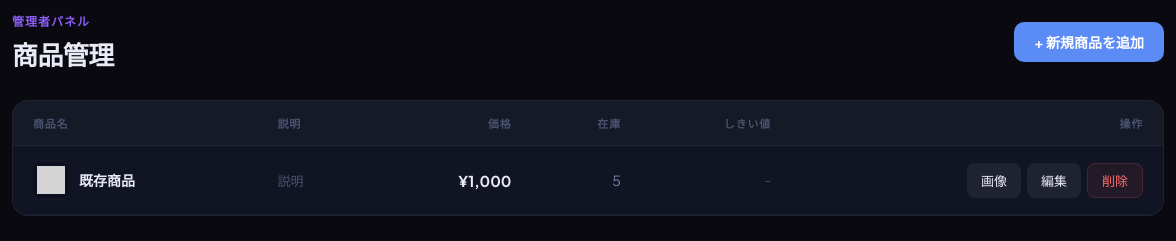
Test: AdminProductsView › updates a product via updateProduct
Expected: the text "既存商品" is shown, [79,170,135,190]
Step 1. Click the button "編集" → (1054, 180), box [1027,162,1081,198]
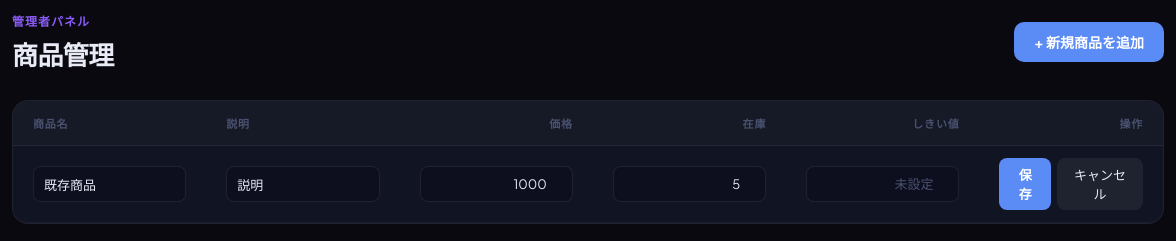
Step 2. Replace the text in the 1st field showing "既存商品" with "更新商品" → (110, 184), box [33,166,186,202]
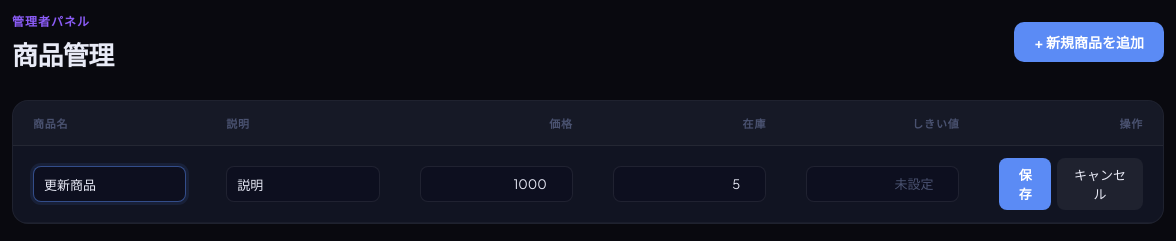
Step 3. Click the button "保存" → (1025, 184), box [1000,158,1051,210]
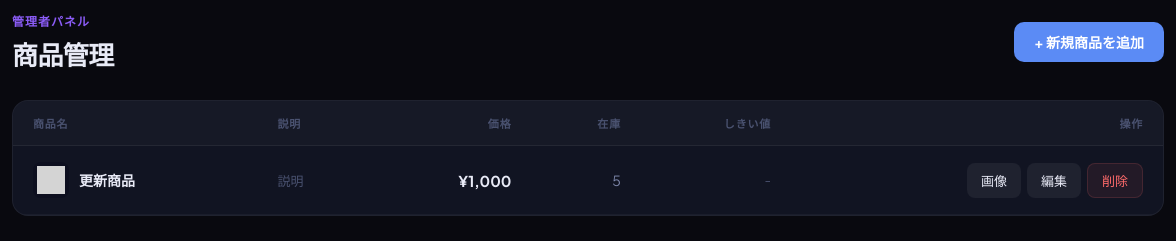
Now the text "更新商品" is shown, box [79,170,135,190]
